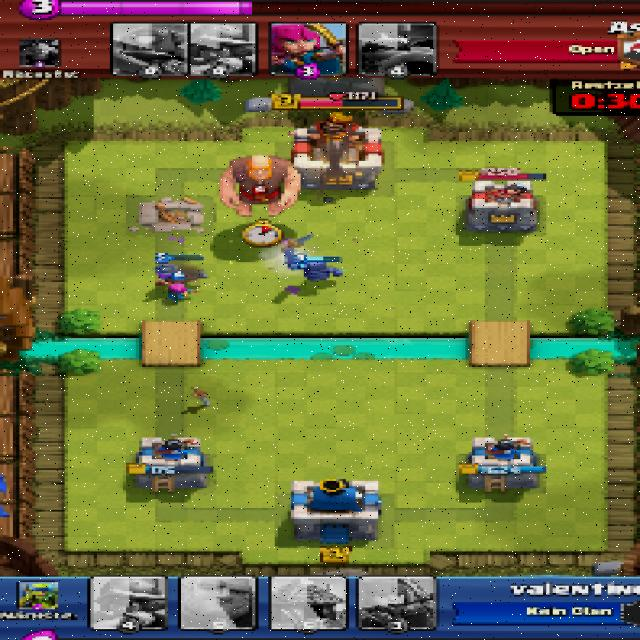Enemy-Giant: (216, 154, 299, 217)
Player-Archer: (168, 284, 197, 304)
Player-MiniPEKKA: (288, 257, 345, 282)
Player-Musketeer: (160, 265, 205, 285)
